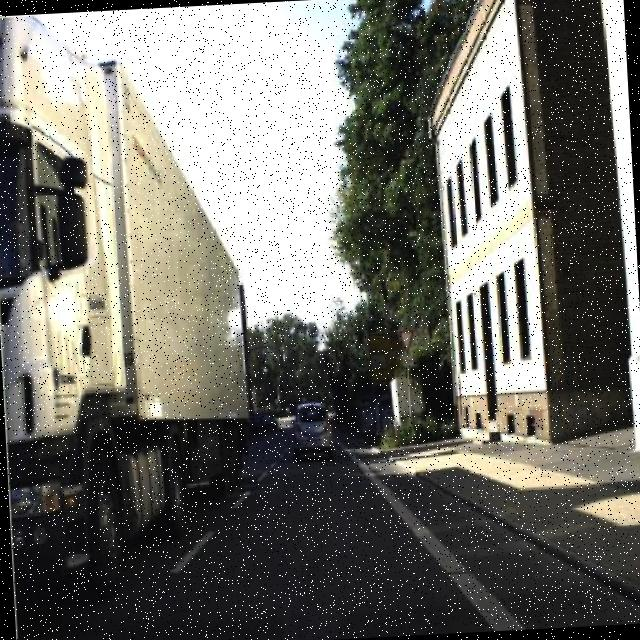Ustap pierwszenstwa: (396, 326, 420, 354)
